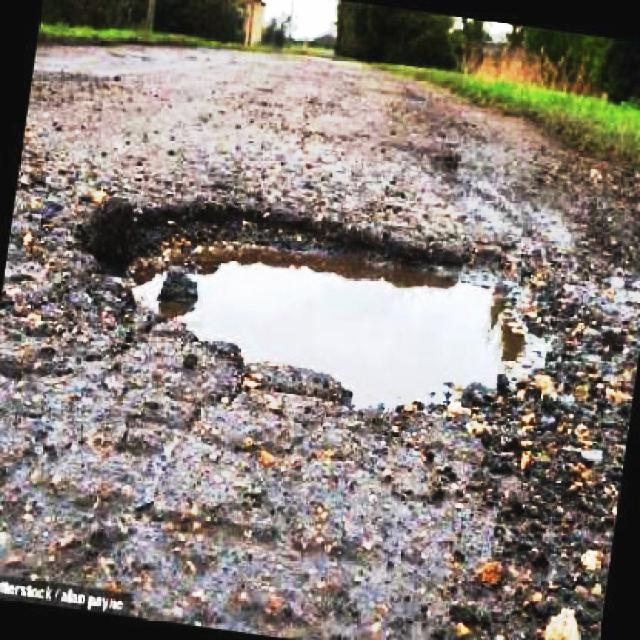pothole: (82, 189, 576, 426)
